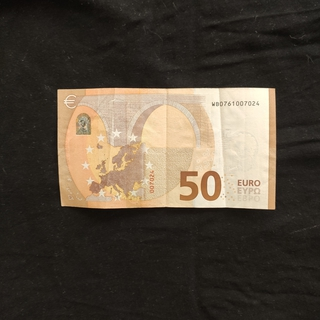50EUROBack: (56, 86, 277, 210)
